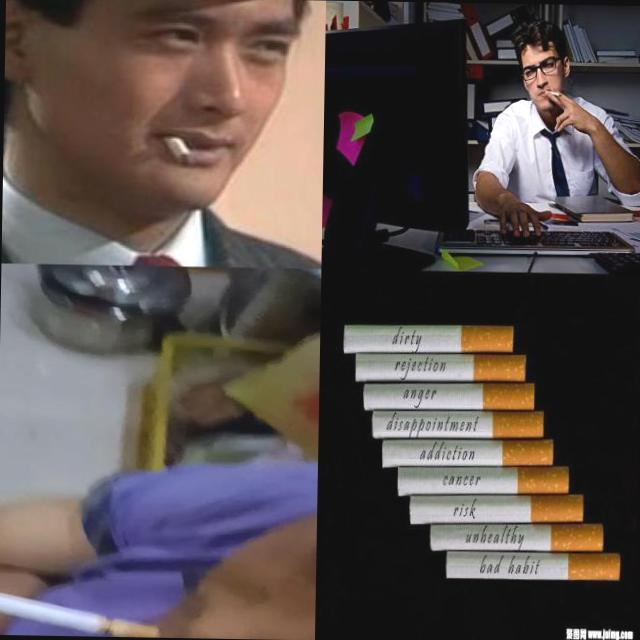cigarette: (0, 578, 165, 637), (396, 463, 569, 499), (362, 379, 534, 414), (428, 520, 604, 554), (408, 492, 583, 526), (381, 436, 553, 470), (371, 408, 543, 441), (445, 550, 620, 582), (342, 324, 514, 356), (354, 353, 526, 384), (153, 130, 205, 168), (545, 89, 562, 97)
